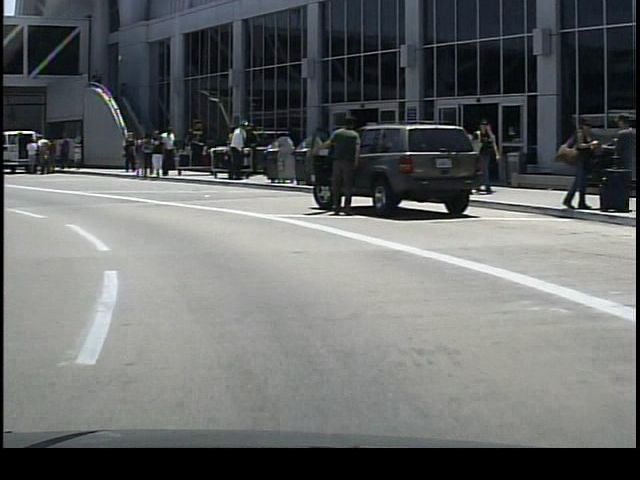person: (316, 112, 360, 219), (552, 114, 593, 213), (467, 112, 502, 202), (603, 112, 634, 208), (224, 118, 250, 183), (145, 130, 166, 180), (54, 129, 76, 176), (159, 124, 176, 179), (116, 129, 136, 174), (34, 132, 53, 176), (22, 137, 41, 177)
